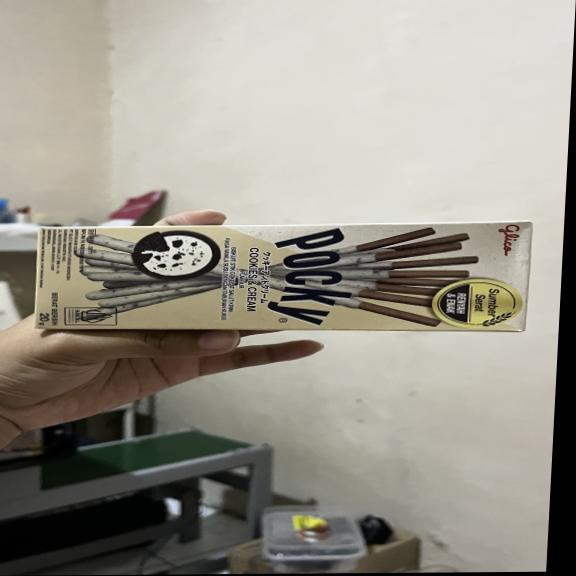Kertas: (28, 218, 537, 334)
